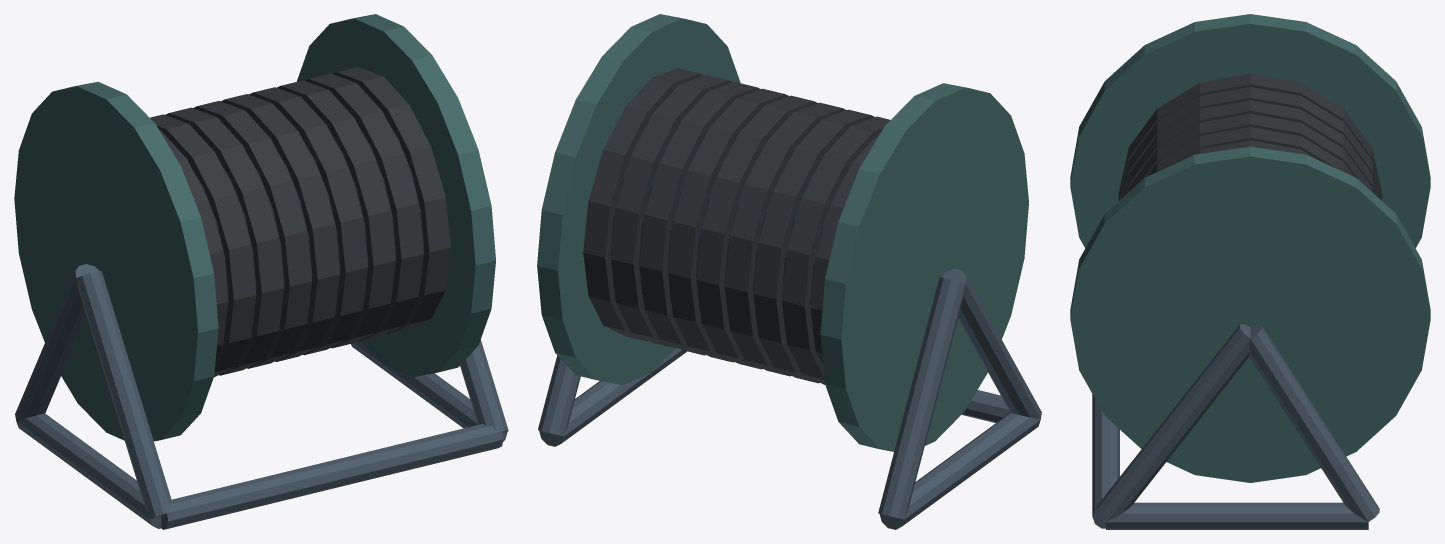
The model's file is T-04_cable_reel.glb.
3 renders of one model, left to right at view 1: azimuth 30°, elevation 25°; view 2: azimuth 150°, elevation 25°; view 3: azimuth 270°, elevation 25°, orthographic. The views are drawn at different scales.
Visible parts, largest first — view 1: T-04_cable_reel; view 2: T-04_cable_reel; view 3: T-04_cable_reel.
Part boxes in pixels (box(x1,y1,x2,y2)): T-04_cable_reel: box(14, 14, 508, 529); T-04_cable_reel: box(537, 14, 1041, 529); T-04_cable_reel: box(1070, 14, 1430, 529).
Bounding box in the file's own units: 0.384 × 0.3804 × 0.342.
